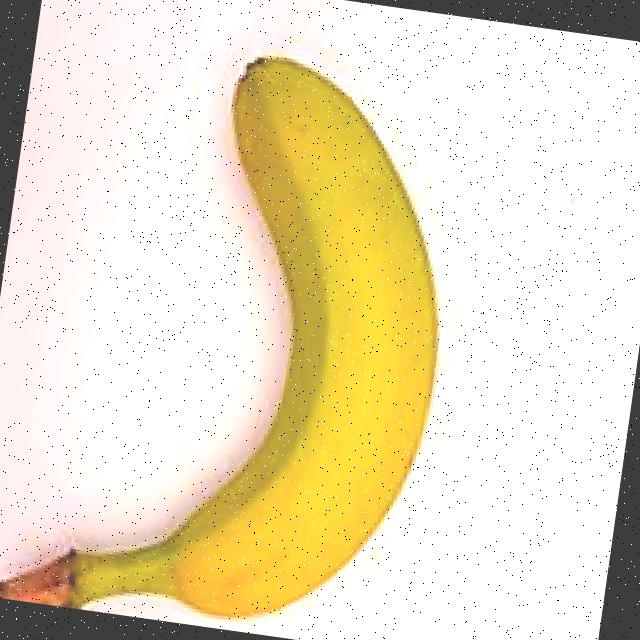Unripe: (0, 0, 507, 640)
